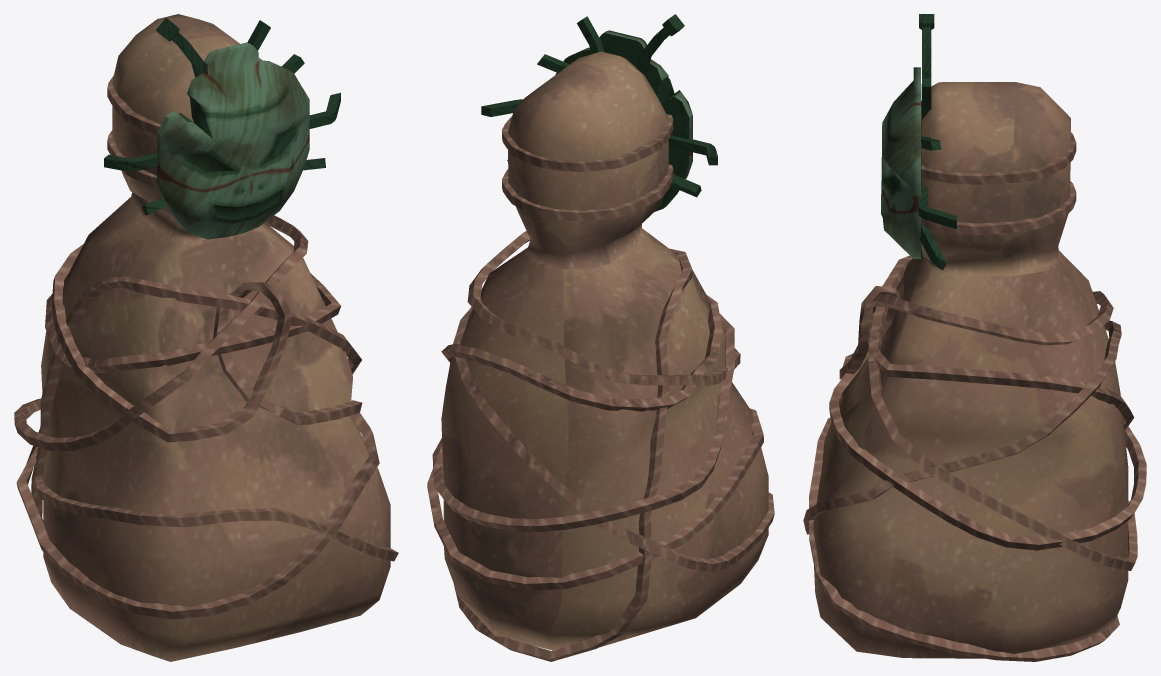
File: mummy.fbx
3 views of the same model, side by side, from view 1: azimuth 30°, elevation 25°; view 2: azimuth 150°, elevation 25°; view 3: azimuth 270°, elevation 25° (orthographic). The views are drawn at different scales.
Parts seen in each view (by area): view 1: mummy; view 2: mummy; view 3: mummy.
Part boxes in pixels (x1,y1,x2,y2): mummy: (14, 14, 398, 661); mummy: (427, 14, 774, 661); mummy: (803, 14, 1146, 661).
Size of the model in its own units: 101 by 209 by 111.
Materials: 1 (1 with a texture image).
